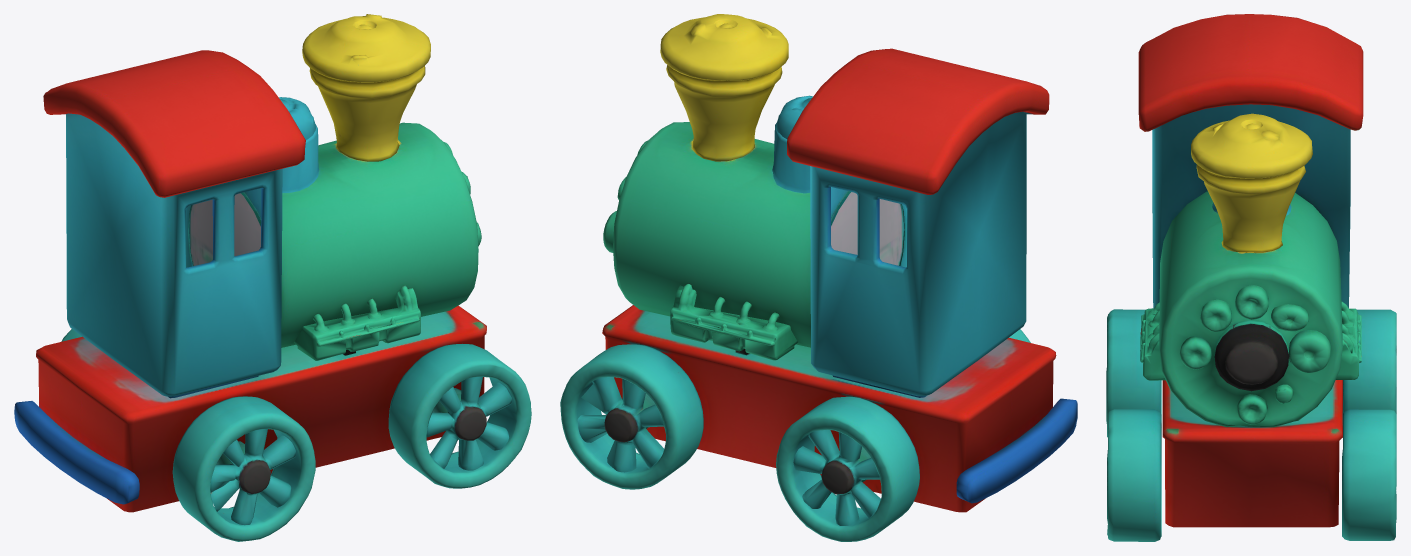
The model's file is r33-train.glb.
3 views of the same model, side by side, from view 1: azimuth 30°, elevation 25°; view 2: azimuth 150°, elevation 25°; view 3: azimuth 270°, elevation 25° (orthographic). The views are drawn at different scales.
Parts seen in each view (by area): view 1: tripo_node_f91f4825-d98c-4d88-8c48-7b4c6d999d19; view 2: tripo_node_f91f4825-d98c-4d88-8c48-7b4c6d999d19; view 3: tripo_node_f91f4825-d98c-4d88-8c48-7b4c6d999d19.
Part boxes in pixels (x1,y1,x2,y2): tripo_node_f91f4825-d98c-4d88-8c48-7b4c6d999d19: (14,14,531,541); tripo_node_f91f4825-d98c-4d88-8c48-7b4c6d999d19: (560,14,1077,541); tripo_node_f91f4825-d98c-4d88-8c48-7b4c6d999d19: (1106,14,1396,541).
Bounding box in the file's own units: 0.998 × 0.998 × 0.6641.
Materials: 1 (1 with a texture image).
